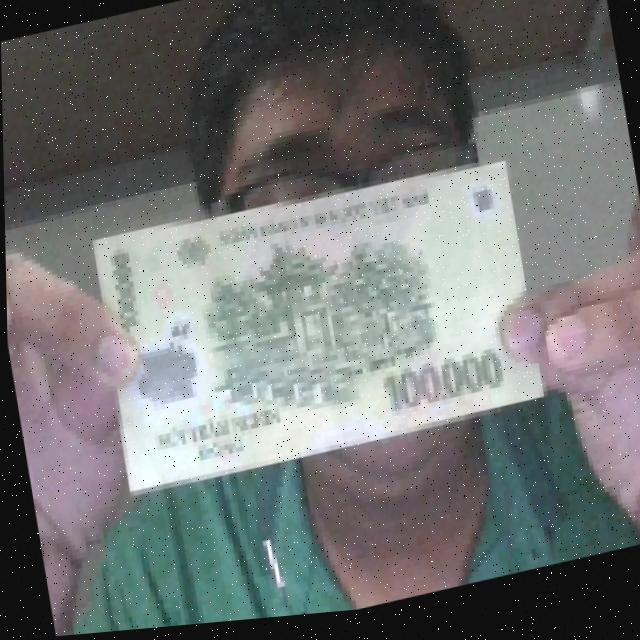100 000 VND: (78, 142, 551, 508)
